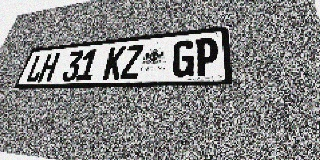1: (75, 49, 99, 81)
3: (61, 50, 84, 81)
G: (171, 39, 195, 77)
H: (37, 53, 61, 82)
K: (102, 46, 126, 80)
L: (24, 54, 48, 83)
P: (194, 37, 218, 77)
Z: (120, 44, 144, 79)
